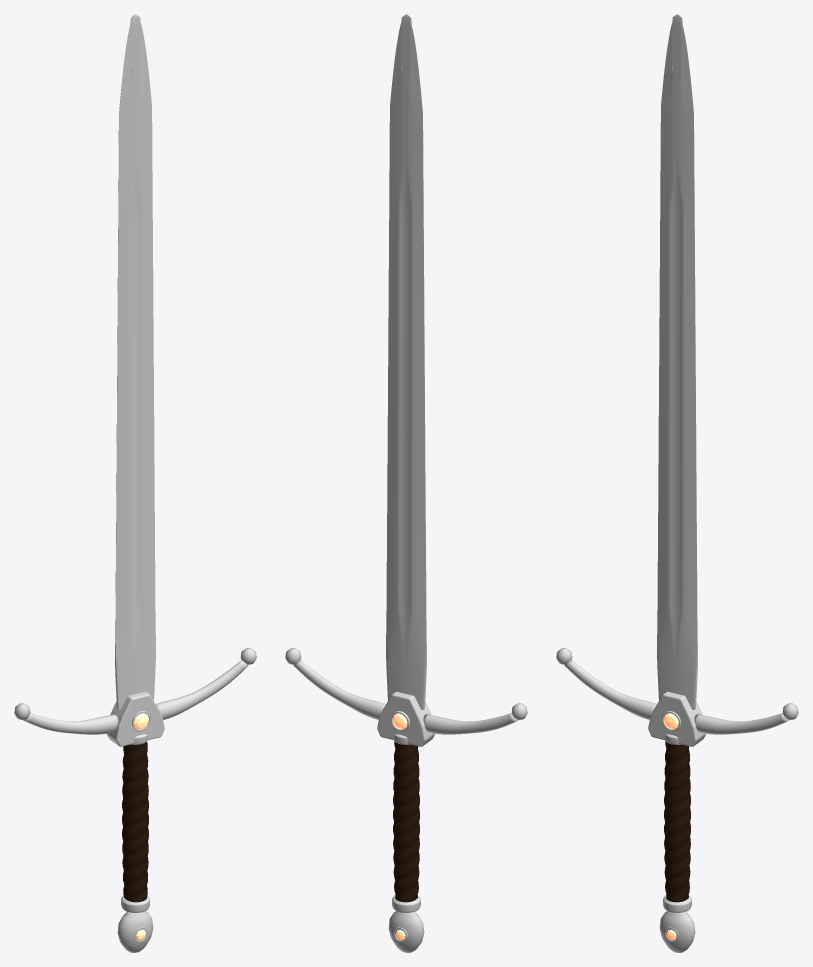
File: greatsword.fbx
The picture shows the model from 3 angles, left to right: view 1: azimuth 30°, elevation 25°; view 2: azimuth 150°, elevation 25°; view 3: azimuth 330°, elevation 25°; orthographic projection.
Visible parts, largest first — view 1: GS_Greatsword_Game; view 2: GS_Greatsword_Game; view 3: GS_Greatsword_Game.
Part boxes in pixels (x1=…): GS_Greatsword_Game: x1=14, y1=14, x2=256, y2=952; GS_Greatsword_Game: x1=285, y1=14, x2=527, y2=952; GS_Greatsword_Game: x1=556, y1=14, x2=798, y2=952.
Bounding box in the file's own units: 39.3 × 147 × 4.5.
